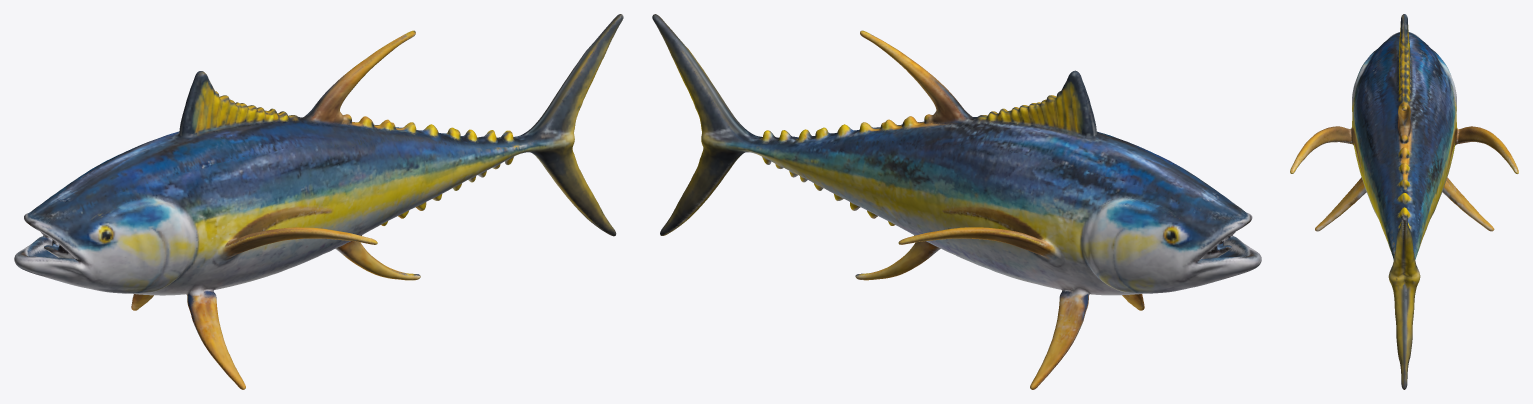
Rendered from atun.glb.
3 renders of one model, left to right at view 1: azimuth 30°, elevation 25°; view 2: azimuth 150°, elevation 25°; view 3: azimuth 270°, elevation 25°, orthographic. The views are drawn at different scales.
Visible parts, largest first — view 1: Atun; view 2: Atun; view 3: Atun.
Part boxes in pixels (<box>): Atun: <box>14,14,623,389</box>; Atun: <box>652,14,1261,389</box>; Atun: <box>1290,14,1518,389</box>.
Size of the model in its own units: 0.16 by 0.0695 by 0.065.
Materials: 1 (1 with a texture image).
